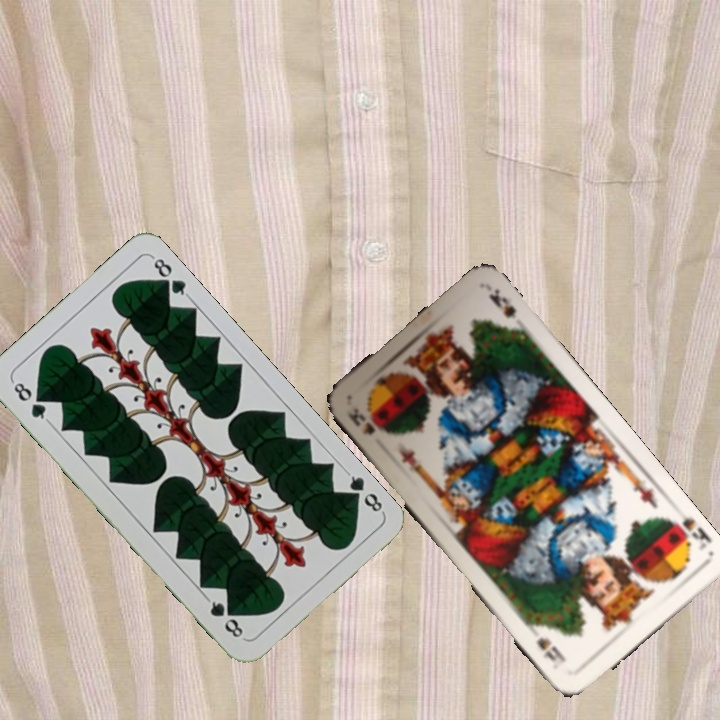G8: (341, 467, 388, 515), (8, 377, 52, 425)
SK: (663, 513, 714, 554), (343, 403, 378, 438)
